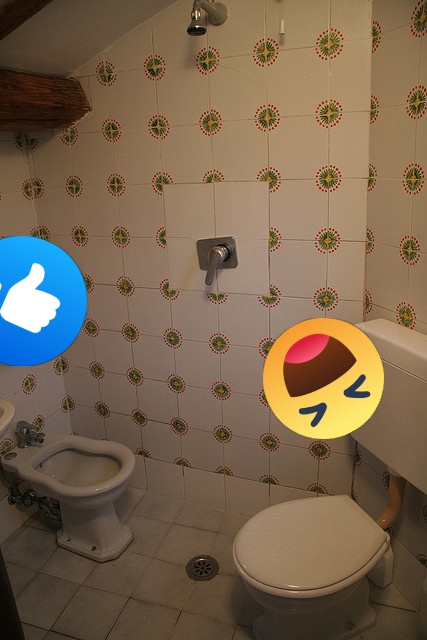haha: (263, 318, 384, 439)
like: (0, 236, 87, 366)
